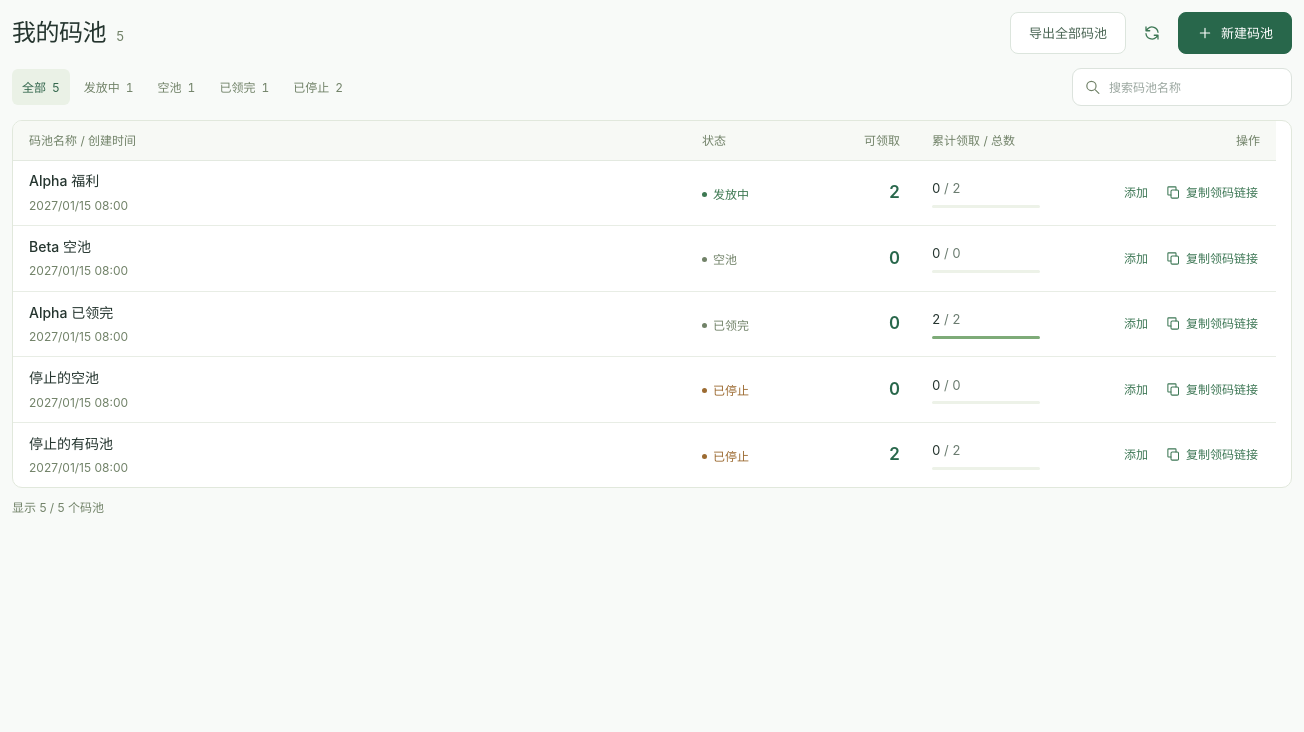
Scenario: 码池状态互斥分类，搜索忽略大小写与首尾空格并与状态筛选组合
The width and height of the screenshot is (1304, 732).
Expected: the number of links is 5, 29,172 -> 128,213; 29,238 -> 128,278; 29,304 -> 128,344; 29,369 -> 128,410; 29,435 -> 128,475
Expected: the button "已停止 2" is shown, 283,69 -> 353,105
Click the button "空池 1".
click(176, 87)  # box 148,69 -> 205,105
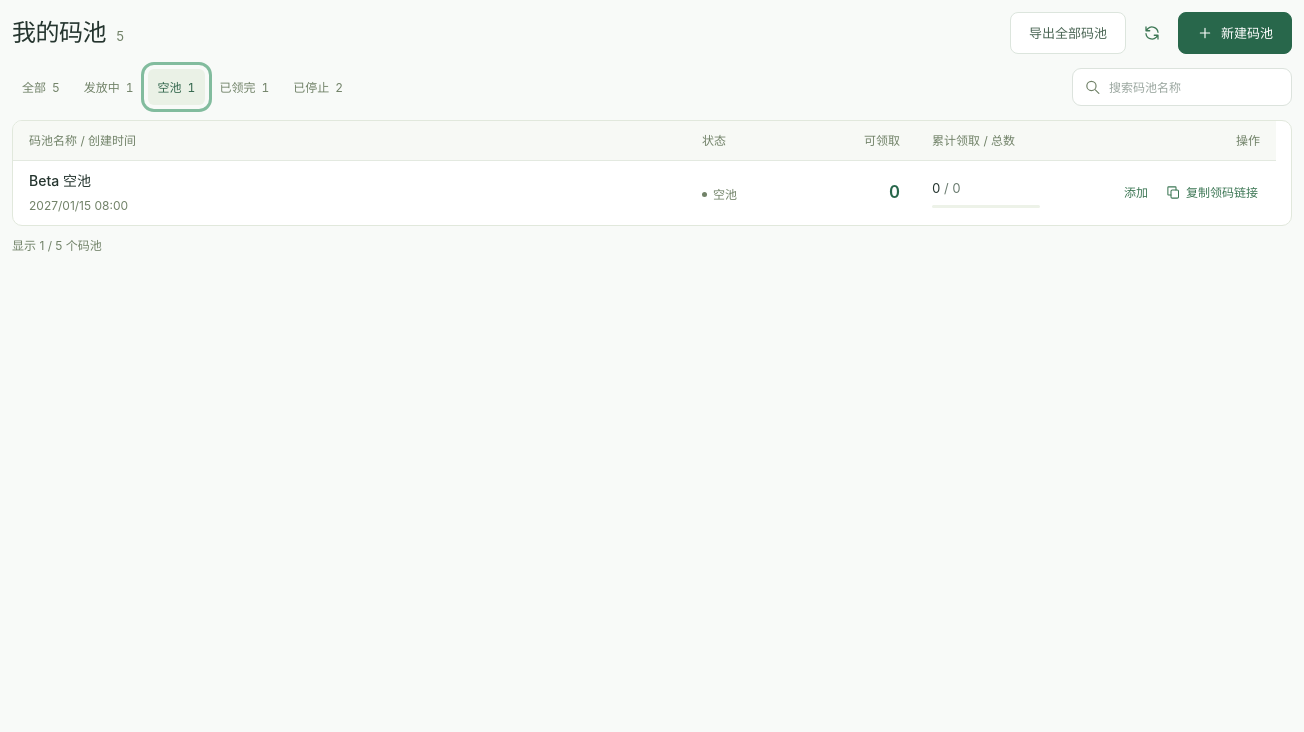
Expected: the heading "Beta 空池" is shown, 29,172 -> 91,189
Expected: the number of links is 1, 29,172 -> 128,213
Click the button "全部 5".
click(41, 87)  # box 12,69 -> 70,105
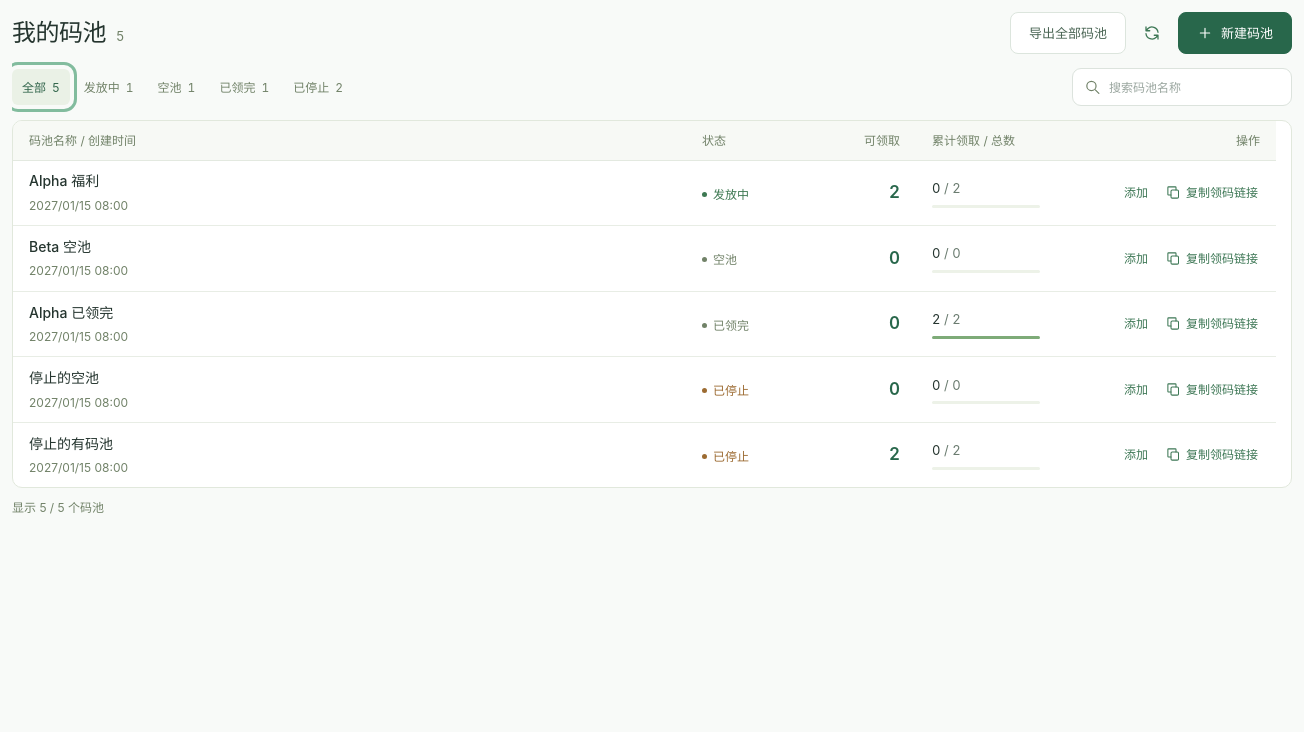
Type "  ALPHA  " into the search field labelled "搜索码池名称".
click(1182, 87); type("  ALPHA  ")  # box 1072,68 -> 1292,106
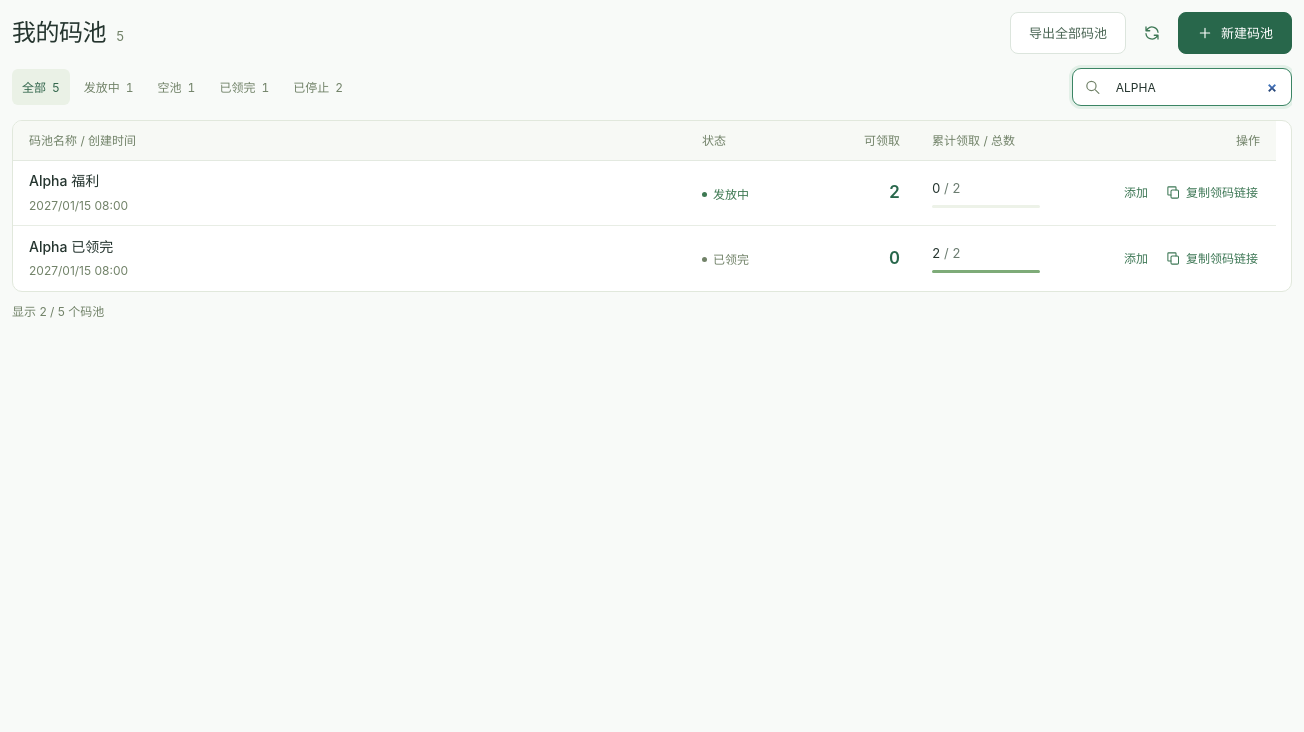
Expected: the number of links is 2, 29,172 -> 128,213; 29,238 -> 128,278
Click the button "已领完 1".
click(244, 87)  # box 209,69 -> 279,105
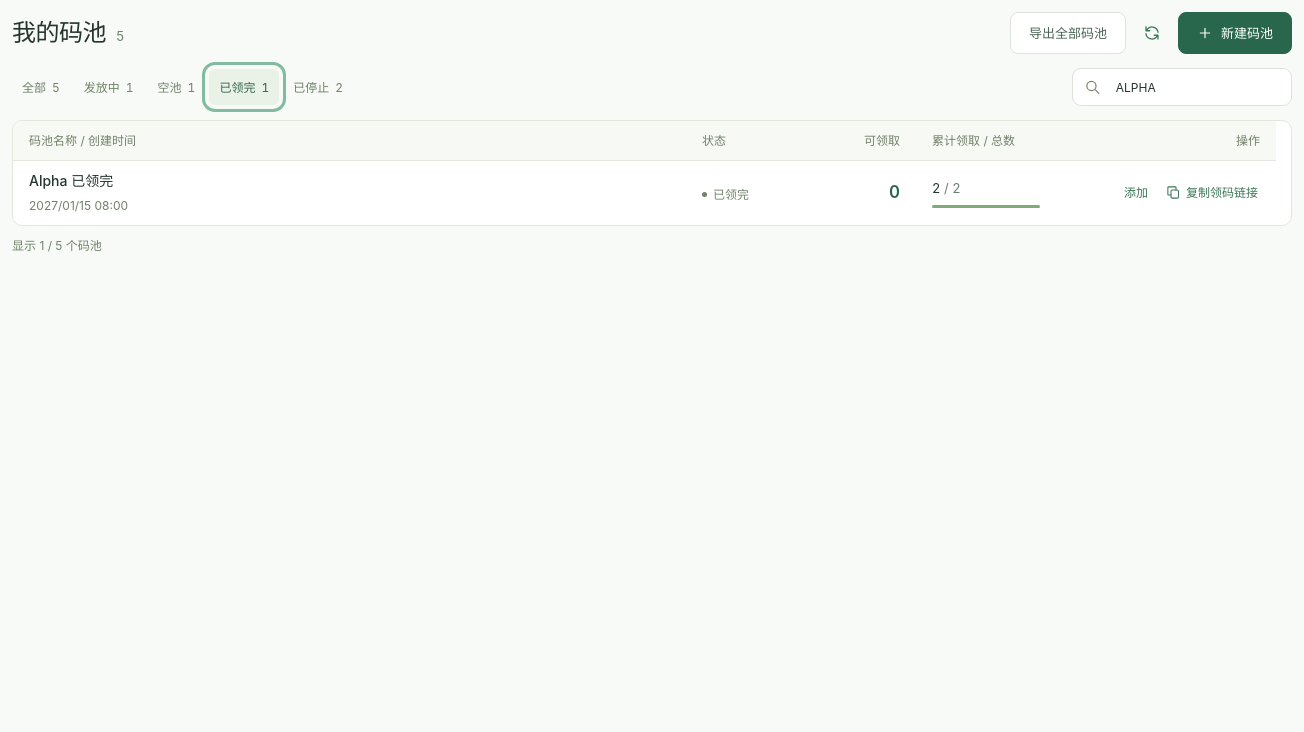
Expected: the heading "Alpha 已领完" is shown, 29,172 -> 113,189
Expected: the number of links is 1, 29,172 -> 128,213
Click the button "空池 1".
click(176, 87)  # box 148,69 -> 205,105
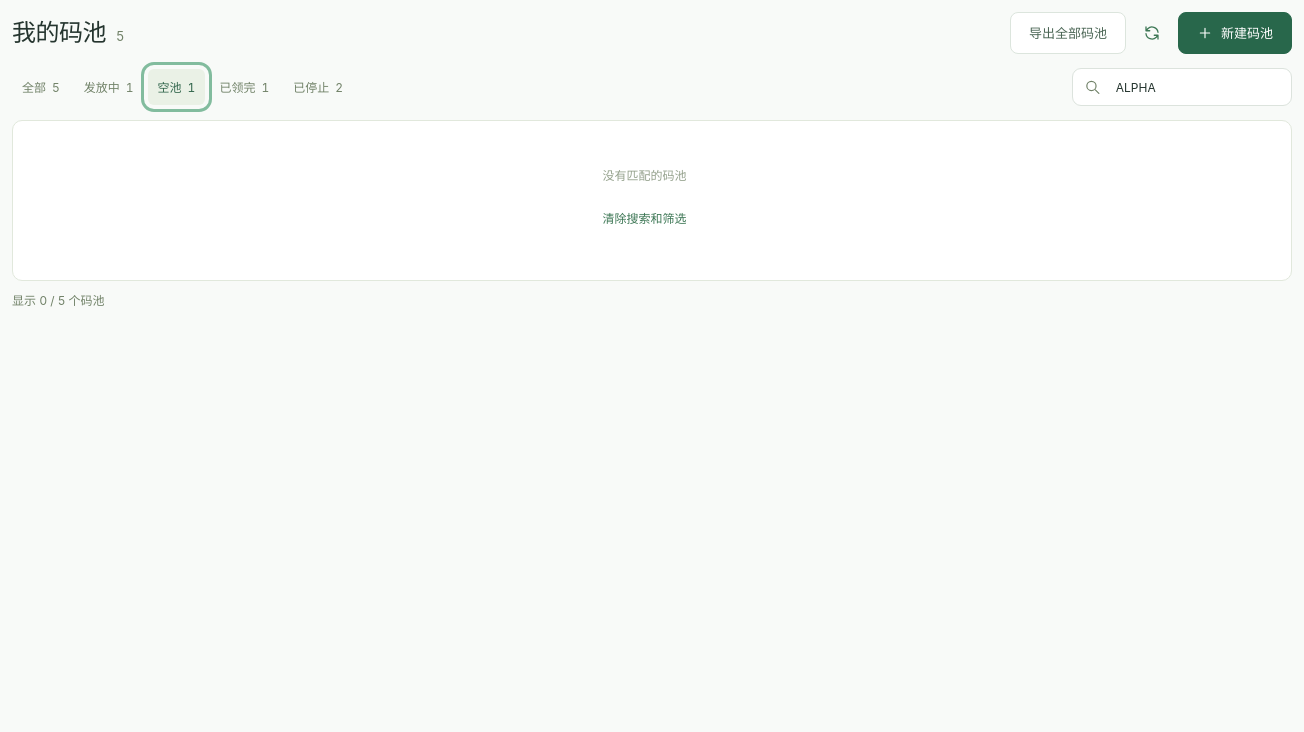
Expected: the text "没有匹配的码池" is shown, 602,168 -> 686,183
Click the button "清除搜索和筛选".
click(644, 219)  # box 600,203 -> 688,235
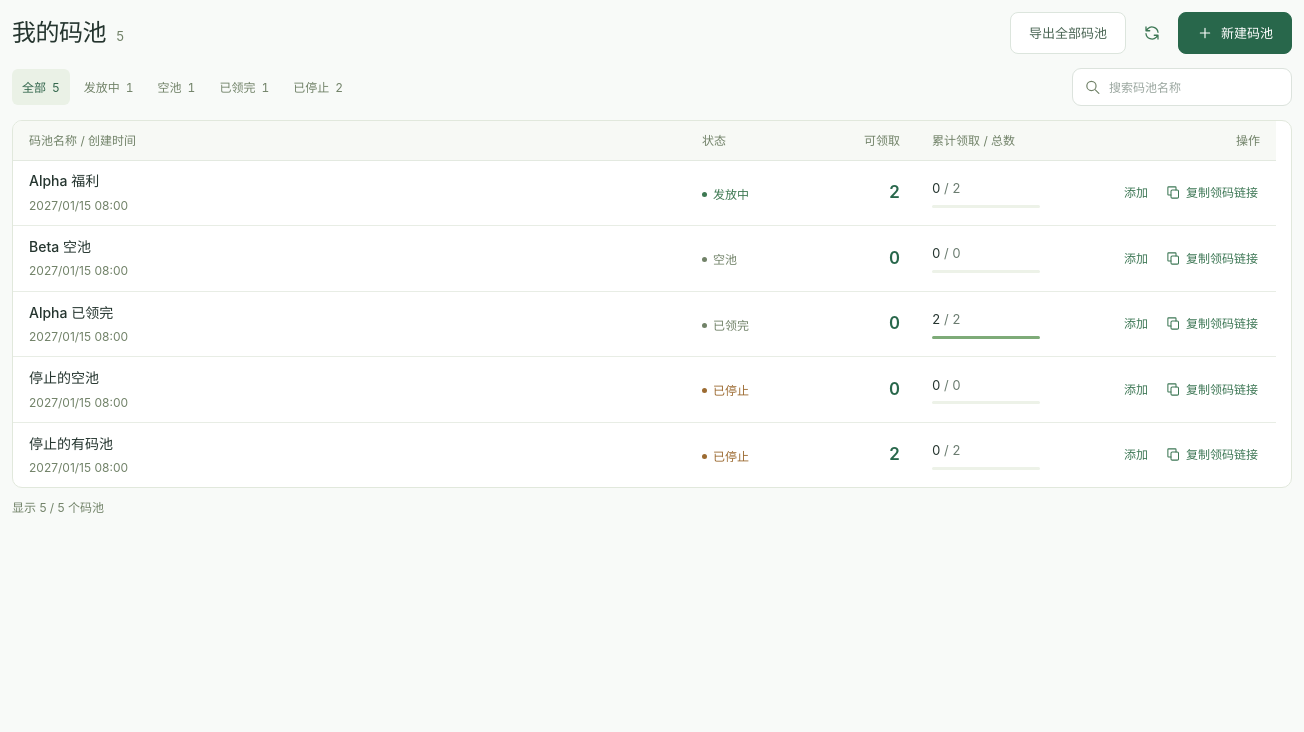
Expected: the search field is empty, 1072,68 -> 1292,106
Expected: the number of links is 5, 29,172 -> 128,213; 29,238 -> 128,278; 29,304 -> 128,344; 29,369 -> 128,410; 29,435 -> 128,475
Expected: the message reads "显示 5 / 5 个码池", 12,500 -> 104,515
